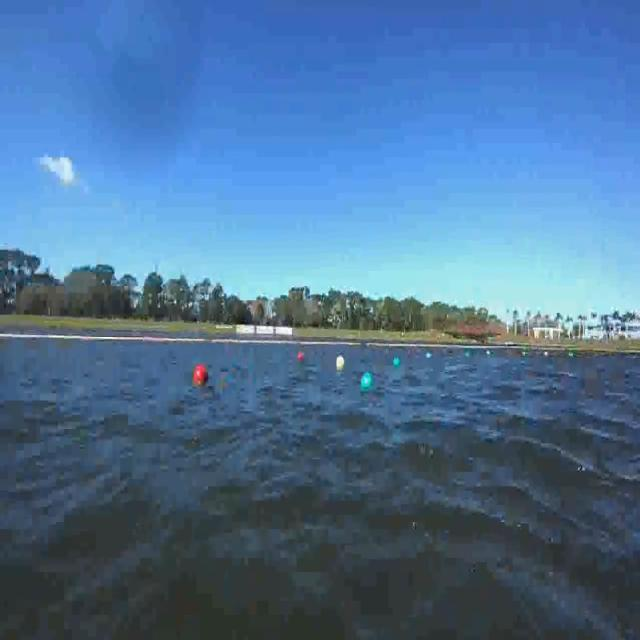green-buoy: (361, 372, 374, 391), (393, 356, 400, 368)
red-buoy: (196, 364, 210, 386)
yellow-buoy: (338, 355, 347, 370)
